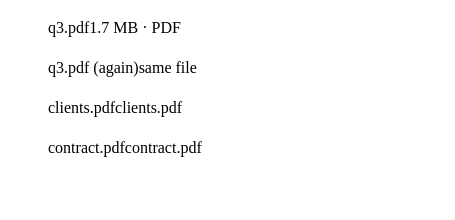
Test case: download card — failures (UC-064) › fewer bytes than X-Total-Bytes: incomplete, nothing saved, retry offered
This screenshot has width=455, height=220.
Click the button with aria-label "Download" at (122, 28), box [8,8,237,48]
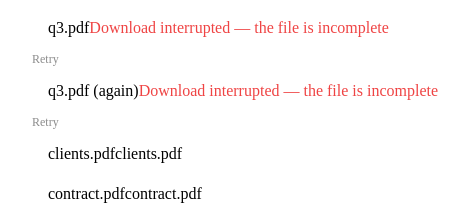
Expected: the 1st text "Download interrupted — the file is incomplete" is shown, [89,19,389,36]
Expected: the 1st button "Retry" is shown, [8,48,67,71]
